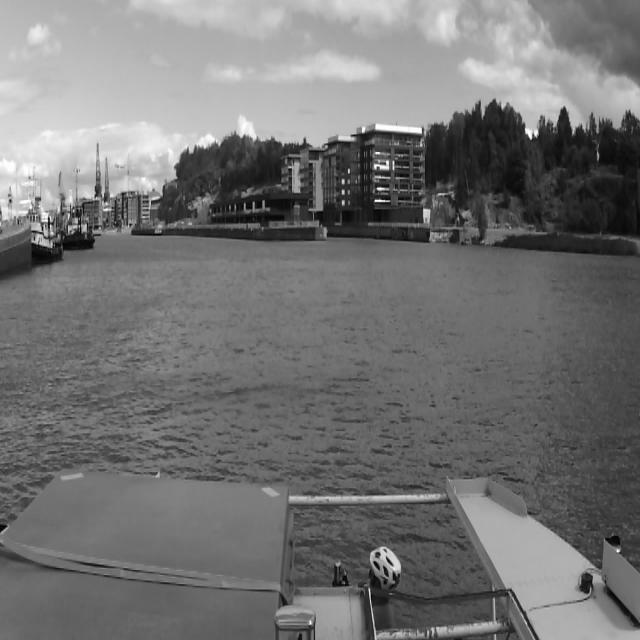ship: (28, 202, 64, 262), (0, 222, 30, 272), (66, 203, 96, 248)
